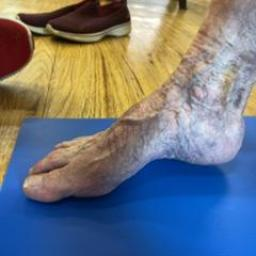Medial View -Right Foot-: (12, 44, 255, 213)
